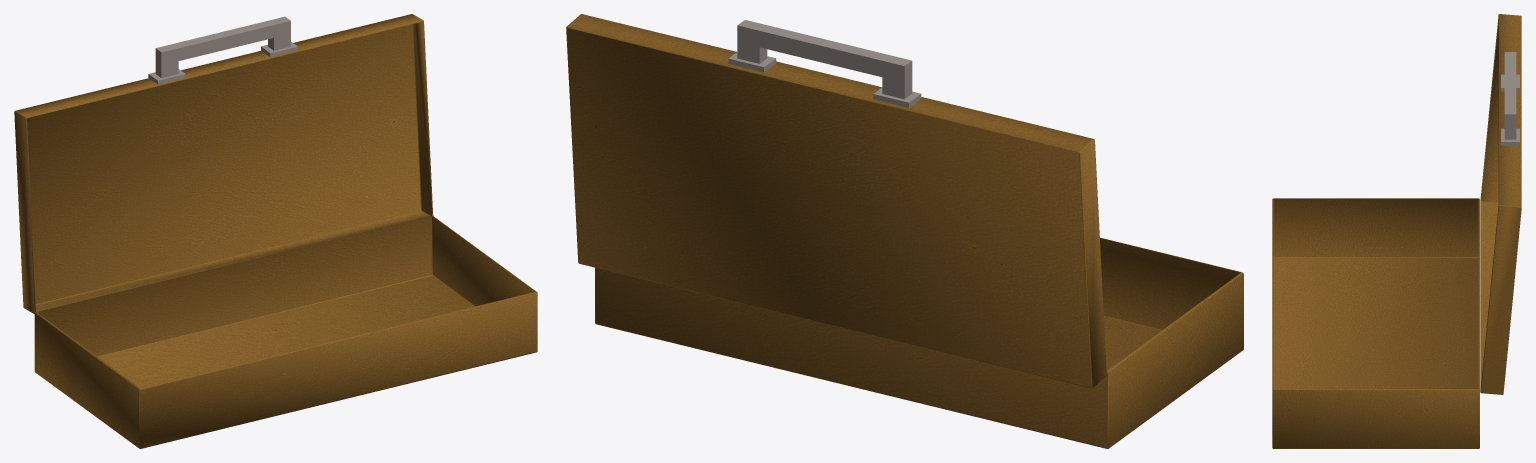
The model's file is OpenSuitcase.glb.
The picture shows the model from 3 angles, left to right: view 1: azimuth 30°, elevation 25°; view 2: azimuth 150°, elevation 25°; view 3: azimuth 270°, elevation 25°; orthographic projection. The views are drawn at different scales.
Visible parts, largest first — view 1: BottomSuitcase_Open, Handle3; view 2: BottomSuitcase_Open, Handle3; view 3: BottomSuitcase_Open, Handle3.
Boxes of the visible parts, <box> form: BottomSuitcase_Open: <box>14,14,537,448</box>; Handle3: <box>148,16,298,84</box>; BottomSuitcase_Open: <box>566,14,1243,448</box>; Handle3: <box>728,20,921,107</box>; BottomSuitcase_Open: <box>1272,14,1521,448</box>; Handle3: <box>1501,52,1519,146</box>.
Bounding box in the file's own units: 4.82 × 3.19 × 2.64.
Materials: 2 (1 with a texture image).
